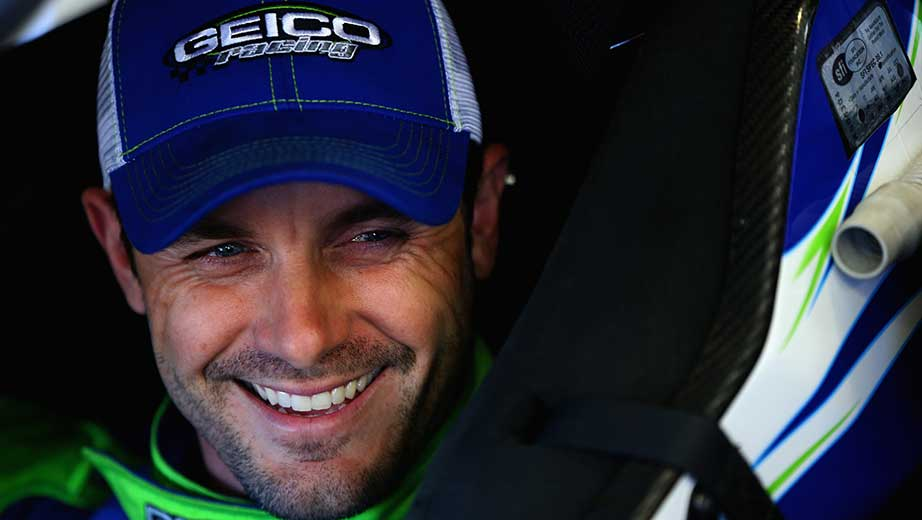Geico: (164, 9, 393, 68)
